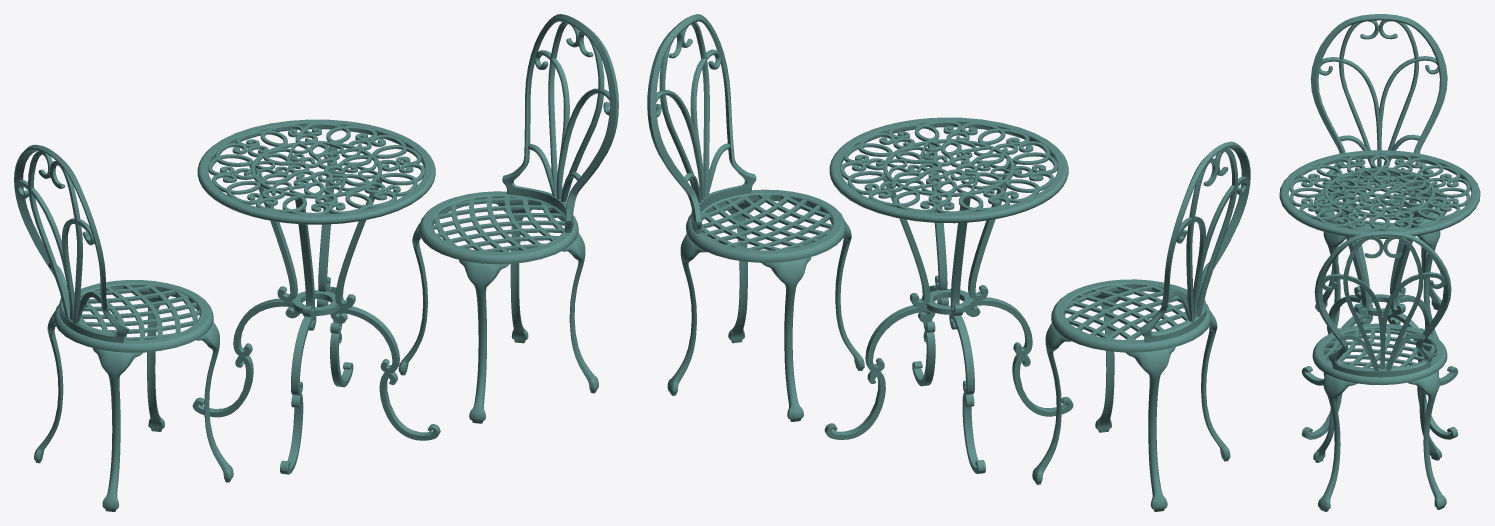
File: 701_garden_table_set.glb
3 renders of one model, left to right at view 1: azimuth 30°, elevation 25°; view 2: azimuth 150°, elevation 25°; view 3: azimuth 270°, elevation 25°, orthographic. The views are drawn at different scales.
Parts seen in each view (by area): view 1: table, chair1, chair2; view 2: table, chair1, chair2; view 3: table, chair1, chair2.
Boxes of the visible parts, <box> form: table: <box>192,119,440,474</box>; chair1: <box>398,14,618,423</box>; chair2: <box>14,144,233,511</box>; table: <box>824,117,1073,473</box>; chair1: <box>647,14,864,421</box>; chair2: <box>1032,141,1250,511</box>; table: <box>1279,150,1480,439</box>; chair1: <box>1312,231,1451,511</box>; chair2: <box>1310,14,1447,352</box>.
Size of the model in its own units: 1.56 by 0.9432 by 0.5974.
